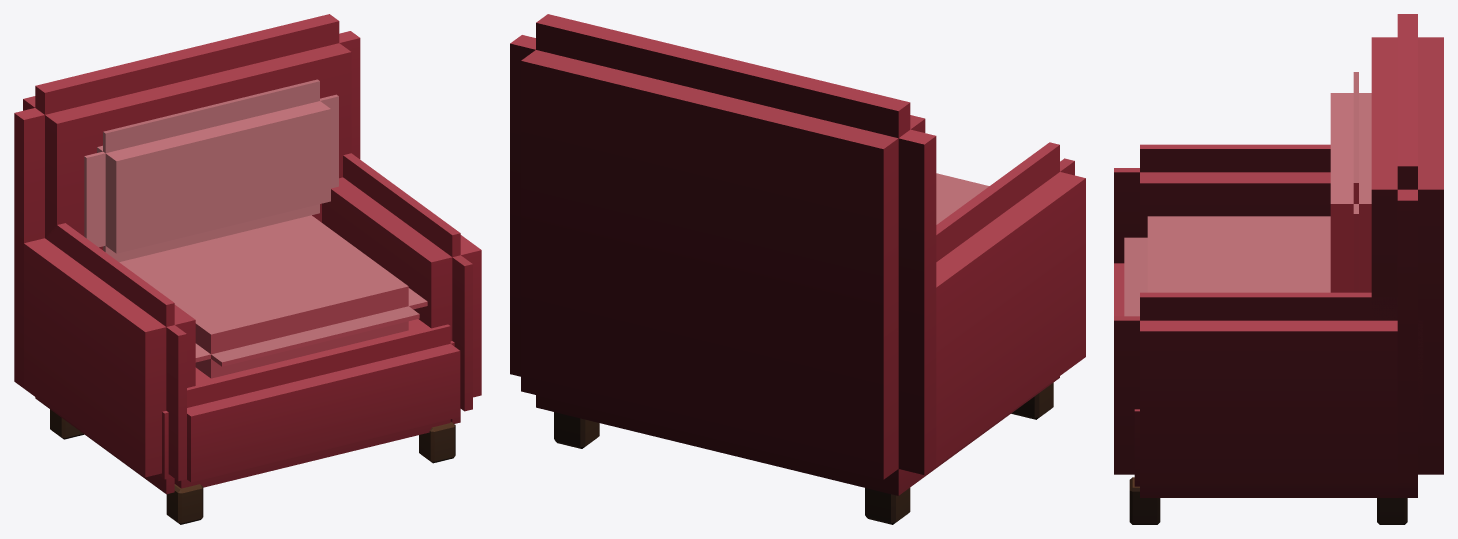
Rendered from armchair.glb.
3 renders of one model, left to right at view 1: azimuth 30°, elevation 25°; view 2: azimuth 150°, elevation 25°; view 3: azimuth 270°, elevation 25°, orthographic. The views are drawn at different scales.
Parts seen in each view (by area): view 1: armchair; view 2: armchair; view 3: armchair.
Part boxes in pixels (bbox=[...]): armchair: bbox=[14, 14, 481, 524]; armchair: bbox=[510, 14, 1085, 524]; armchair: bbox=[1114, 14, 1443, 524].
Size of the model in its own units: 0.8 by 0.78 by 0.64.
